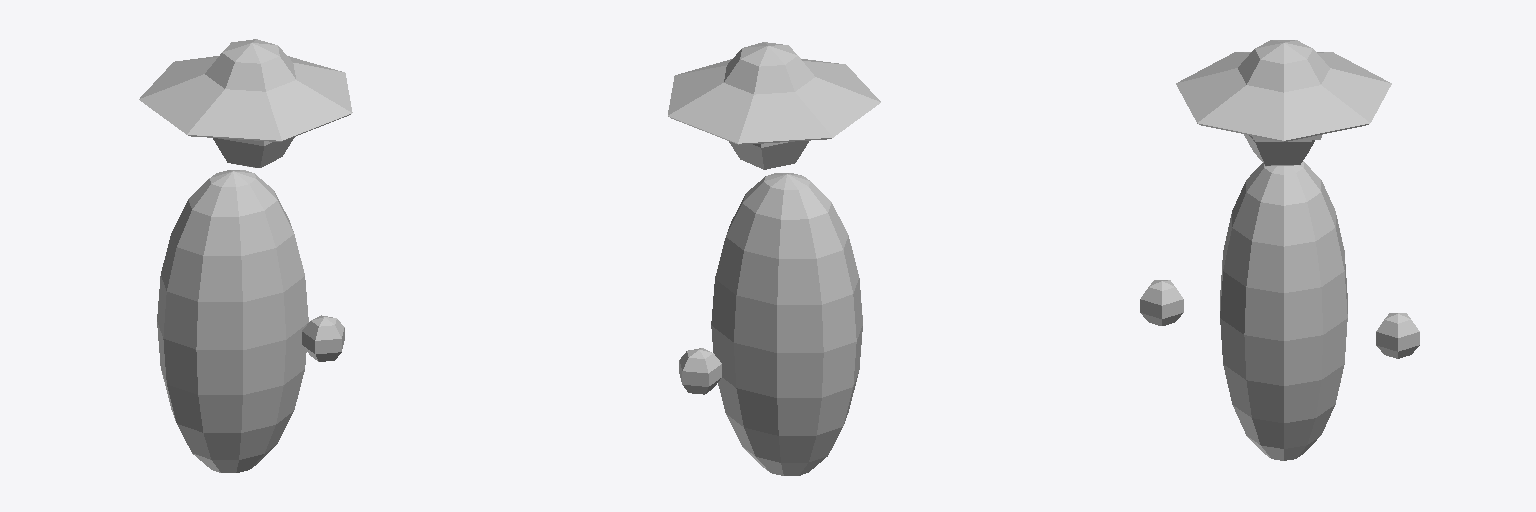
Rendered from character_4.obj.
3 views of the same model, side by side, from view 1: azimuth 30°, elevation 25°; view 2: azimuth 150°, elevation 25°; view 3: azimuth 270°, elevation 25° (orthographic).
Parts seen in each view (by area): view 1: character:body_GEO character:character_GRP Character4 polySurfac, Character4 pSphere1, character:character_GRP character:head_GEO Character4 polySurfac, character:character_GRP character:handR_geo Character4 polySurfa; view 2: character:body_GEO character:character_GRP Character4 polySurfac, Character4 pSphere1, character:character_GRP character:handL_geo Character4 polySurfa, character:character_GRP character:head_GEO Character4 polySurfac; view 3: character:body_GEO character:character_GRP Character4 polySurfac, Character4 pSphere1, character:character_GRP character:handR_geo Character4 polySurfa, character:character_GRP character:handL_geo Character4 polySurfa, character:character_GRP character:head_GEO Character4 polySurfac.
Part boxes in pixels (x1,y1,x2,y2): character:body_GEO character:character_GRP Character4 polySurfac: (157,170,308,472); Character4 pSphere1: (139,39,352,141); character:character_GRP character:head_GEO Character4 polySurfac: (213,137,294,167); character:character_GRP character:handR_geo Character4 polySurfa: (302,315,344,361); character:body_GEO character:character_GRP Character4 polySurfac: (711,173,862,475); Character4 pSphere1: (668,42,880,144); character:character_GRP character:handL_geo Character4 polySurfa: (679,348,721,394); character:character_GRP character:head_GEO Character4 polySurfac: (729,141,808,169); character:body_GEO character:character_GRP Character4 polySurfac: (1220,161,1347,460); Character4 pSphere1: (1176,40,1391,141); character:character_GRP character:handR_geo Character4 polySurfa: (1140,280,1183,325); character:character_GRP character:handL_geo Character4 polySurfa: (1376,313,1419,358); character:character_GRP character:head_GEO Character4 polySurfac: (1244,134,1314,165).
Bounding box in the file's own units: 1.34 × 2.98 × 1.78.